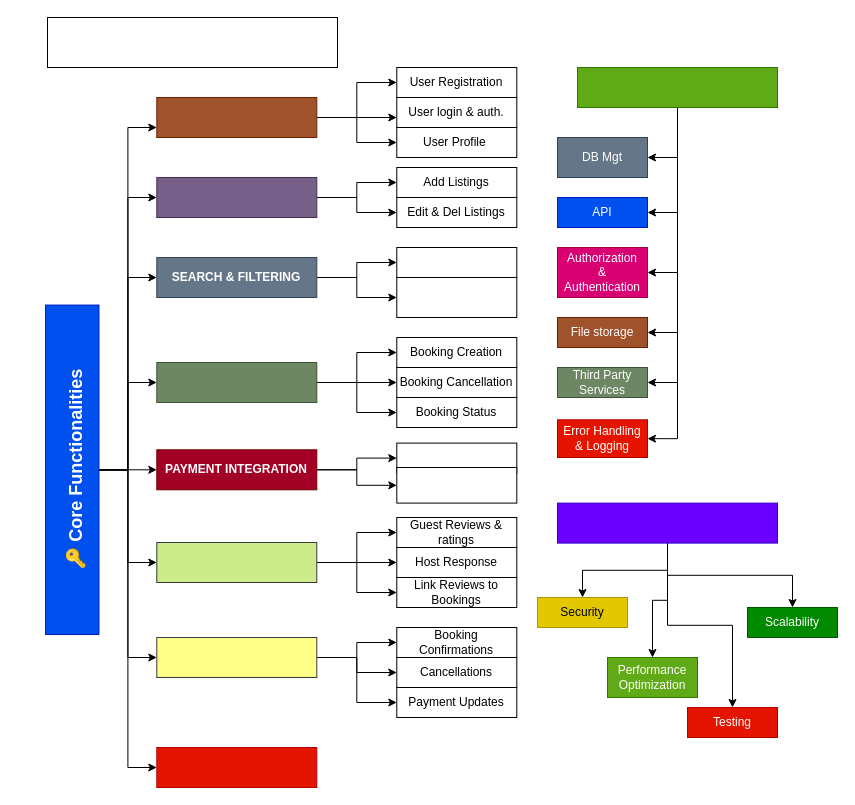
Image size: 855x805. Some labels were removed from this diagram. Each missing label, with the centre of its shape:
"ADMIN DASHBOARD" goes at point (236, 767).
"alx-airbnb-project-documentation/ Features & Functionalities" goes at point (192, 42).
"BOOKING MANAGEMENT" goes at point (236, 382).
"Find Properties" goes at point (456, 262).
"Multiple Currencies" goes at point (456, 484).
"NON-FUNCTIONAL REQUIREMENTS" goes at point (667, 522).
"NOTIFICATION SYSTEMS" goes at point (236, 657).
"pagination for large data sets" goes at point (456, 297).
"Payment Gateways" goes at point (456, 457).
"PROPERTY LISTINGS MANAGEMENT" goes at point (236, 197).
"REVIEWS & RATINGS" goes at point (236, 562).
"TECHNICAL REQUIREMENTS" goes at point (677, 87).
"USER MANAGEMENT" goes at point (236, 117).
